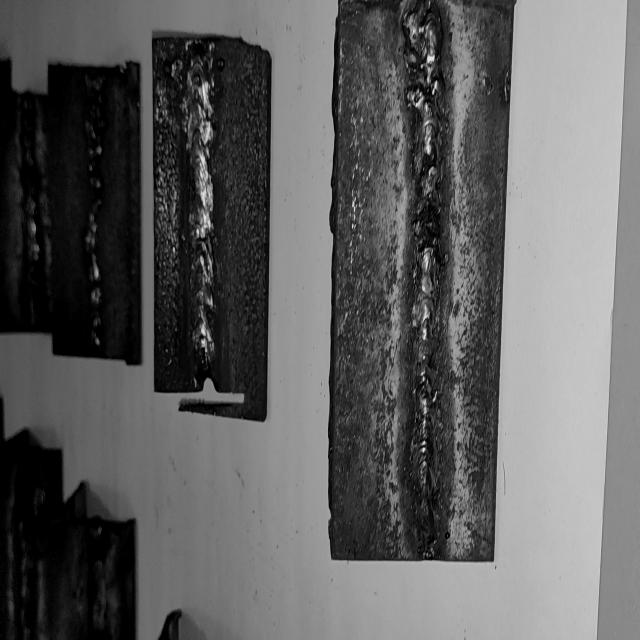Bad Weld: (407, 12, 439, 556), (18, 519, 29, 640)
Defect: (403, 24, 447, 122), (400, 171, 448, 256), (13, 462, 55, 534)
Good Weld: (188, 41, 218, 383), (87, 75, 104, 346), (24, 100, 38, 320), (90, 530, 106, 640)
